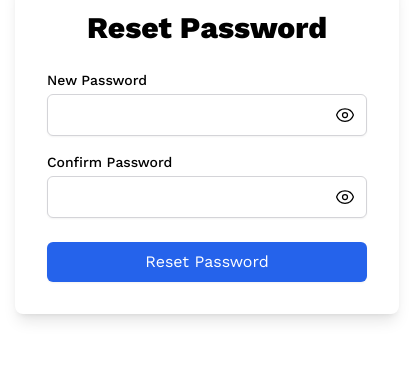
Test case: ResetPasswordForm › shows generic error on network failure
In the password field labelled "New Password": (207, 115) [47, 94, 367, 136], type "newpassword123"
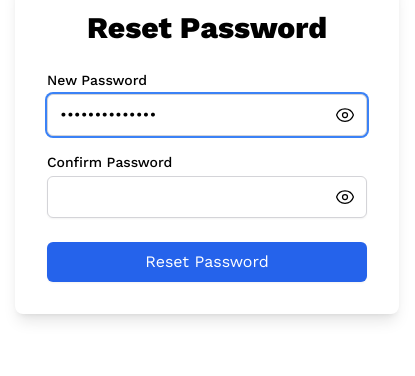
In the password field labelled "Confirm Password": (207, 197) [47, 176, 367, 218], type "newpassword123"
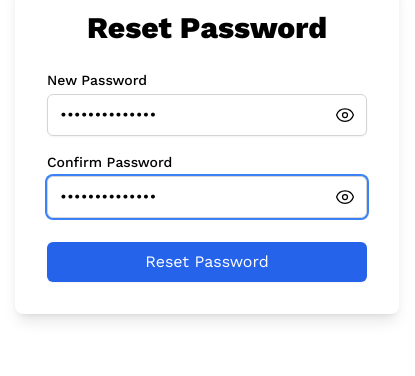
Click the button "Reset Password": (207, 262) [47, 242, 367, 282]
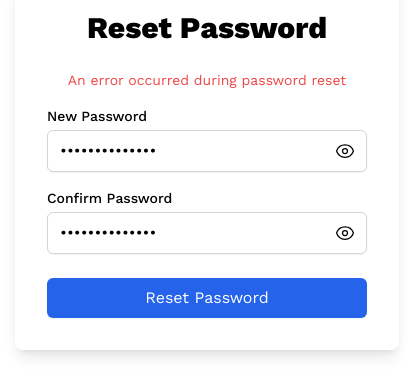
Check: the text "An error occurred during password reset" is shown, box [47, 70, 367, 90]
